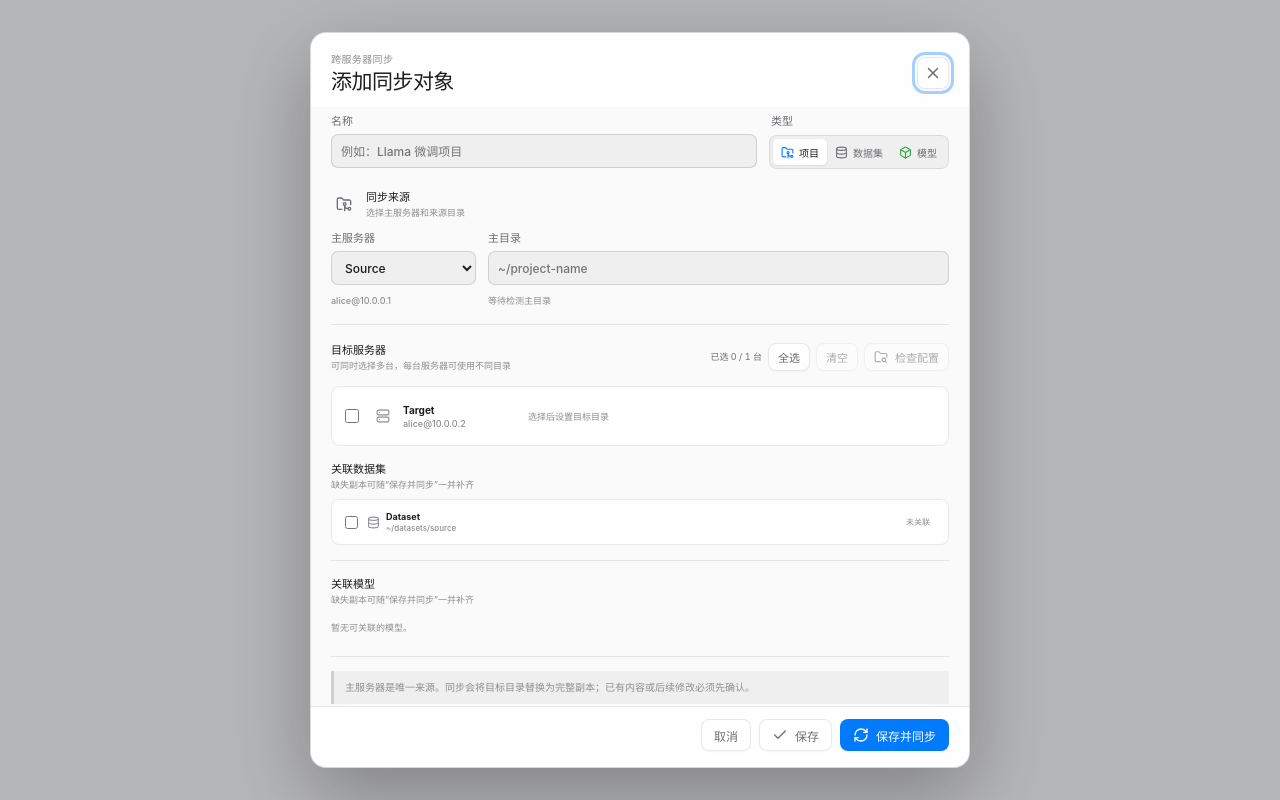
Test: ProjectForm focus management › creates models with the same server and directory workflow without dataset linking
The image size is (1280, 800).
Click the button "模型". click: (918, 152)
box: [891,139,945,165]
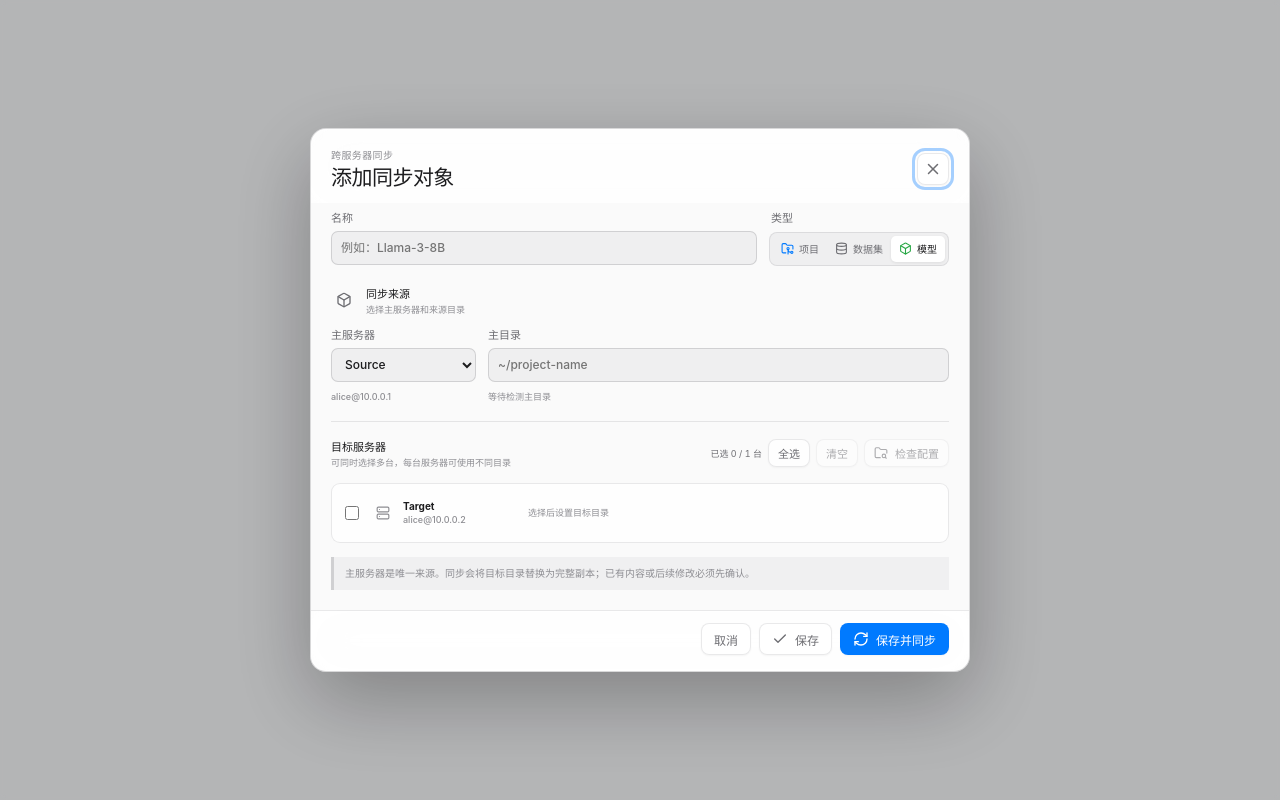
Expected: the field with placeholder "例如：Llama-3-8B" is shown, [331,231,757,265]
Expected: the text "关联数据集" is gone
